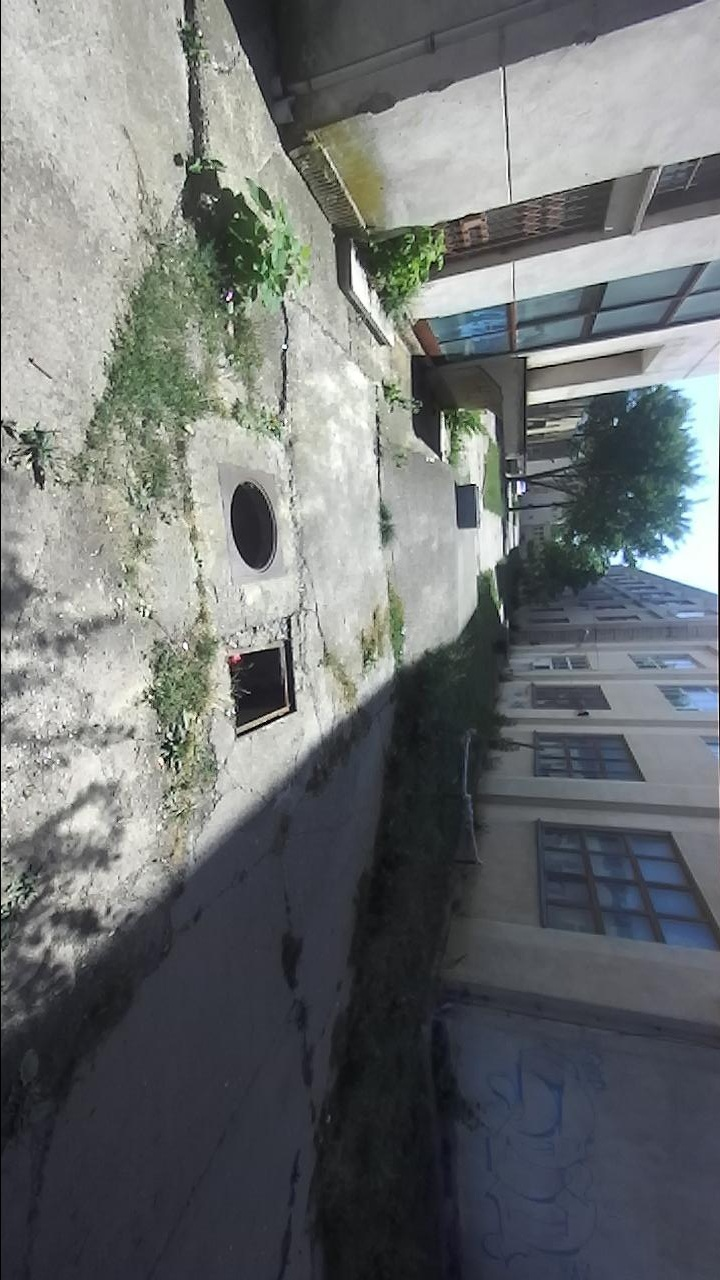drain: (231, 617, 292, 743), (226, 473, 277, 579)
